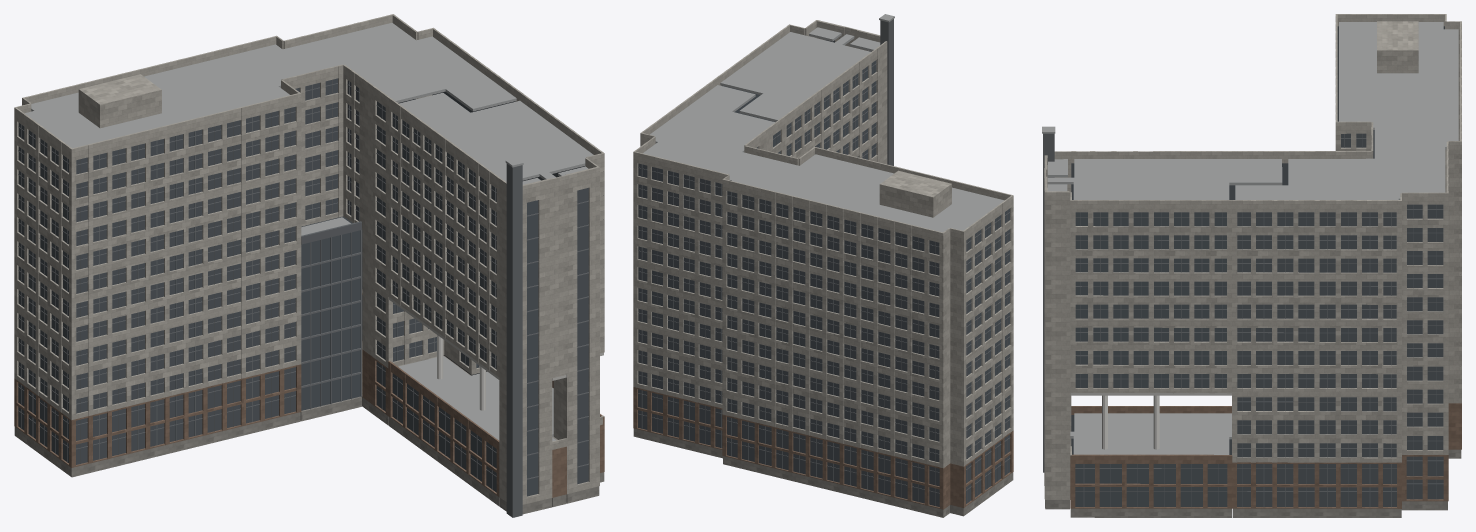
3 renders of one model, left to right at view 1: azimuth 30°, elevation 25°; view 2: azimuth 150°, elevation 25°; view 3: azimuth 270°, elevation 25°, orthographic. The views are drawn at different scales.
Parts seen in each view (by area): view 1: newEngineering__panel, newEngineering__glass, newEngineering__roof, newEngineering__frame, newEngineering__basestone, newEngineering__dark, newEngineering__base; view 2: newEngineering__panel, newEngineering__glass, newEngineering__roof, newEngineering__frame, newEngineering__basestone, newEngineering__base, newEngineering__dark; view 3: newEngineering__panel, newEngineering__glass, newEngineering__roof, newEngineering__basestone, newEngineering__frame, newEngineering__base, newEngineering__dark, newEngineering__column, newEngineering__soffit.
Boxes of the visible parts, x1,y1,x2,y2 form: newEngineering__panel: (14,14,604,504); newEngineering__glass: (18,78,588,496); newEngineering__roof: (25,23,593,441); newEngineering__frame: (18,79,603,489); newEngineering__basestone: (14,293,604,497); newEngineering__dark: (301,163,522,517); newEngineering__base: (14,341,604,514); newEngineering__panel: (633,20,1013,468); newEngineering__glass: (638,40,1009,506); newEngineering__roof: (643,14,1004,232); newEngineering__frame: (637,62,1010,506); newEngineering__basestone: (633,387,1013,509); newEngineering__base: (633,428,1013,517); newEngineering__dark: (880,19,893,165); newEngineering__panel: (1044,14,1461,499); newEngineering__glass: (1071,26,1444,506); newEngineering__roof: (1042,22,1458,454); newEngineering__basestone: (1070,403,1461,508); newEngineering__frame: (1075,134,1460,507); newEngineering__base: (1045,449,1461,517); newEngineering__dark: (1043,133,1054,472); newEngineering__column: (1102,395,1159,449); newEngineering__soffit: (1070,393,1231,395).
Size of the model in its own units: 64.18 by 54.6 by 60.92.
9 materials, 3 textured.
